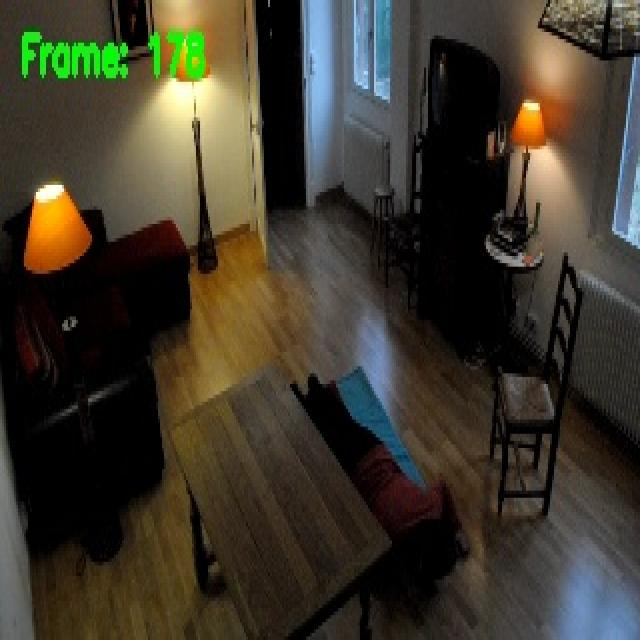Fall-Detected: (285, 372, 471, 618)
